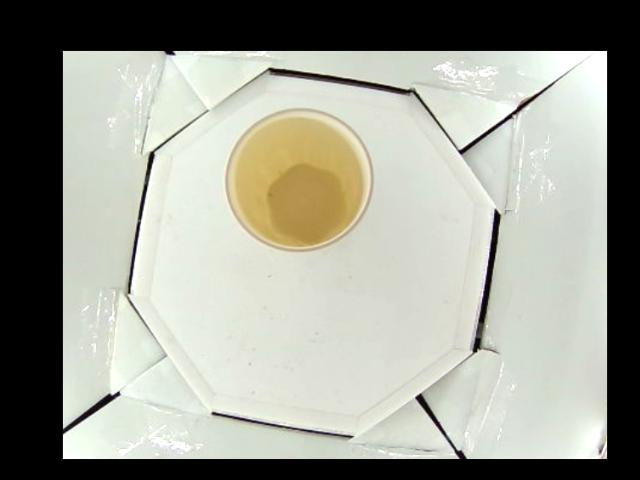Cup: (224, 104, 373, 251)
